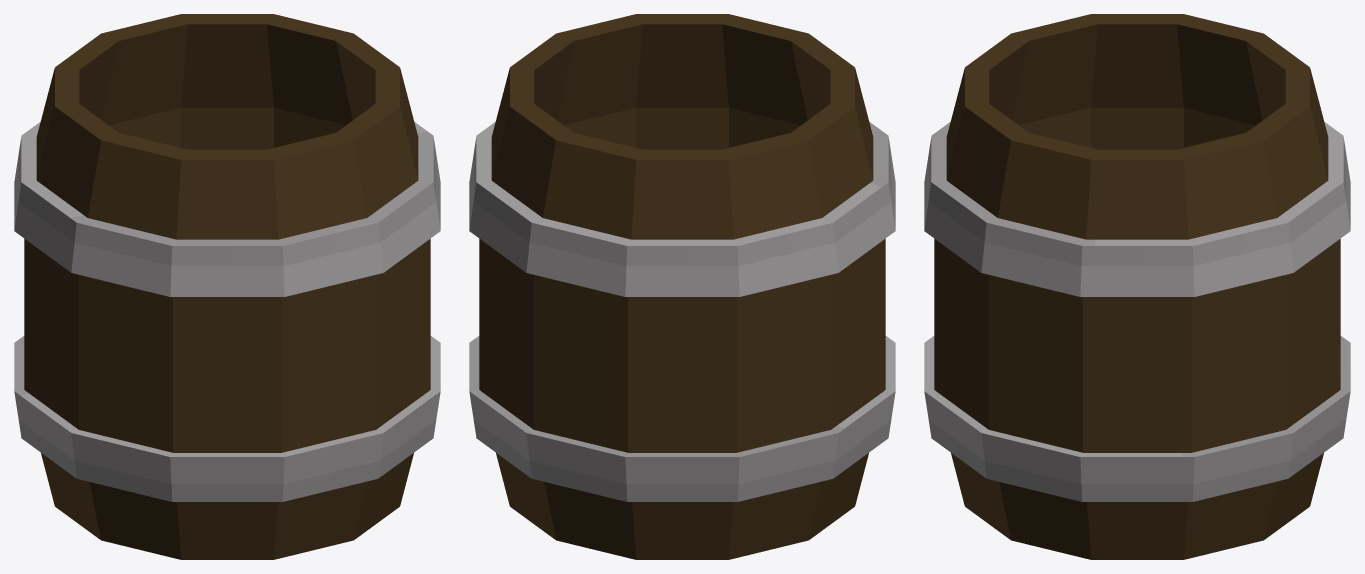
File: barrel_open.obj
The picture shows the model from 3 angles, left to right: view 1: azimuth 30°, elevation 25°; view 2: azimuth 150°, elevation 25°; view 3: azimuth 270°, elevation 25°; orthographic projection.
Visible parts, largest first — view 1: Barril_Abierto_object3.034; view 2: Barril_Abierto_object3.034; view 3: Barril_Abierto_object3.034.
Part boxes in pixels (x1=…): Barril_Abierto_object3.034: x1=14, y1=14, x2=440, y2=559; Barril_Abierto_object3.034: x1=469, y1=14, x2=895, y2=559; Barril_Abierto_object3.034: x1=924, y1=14, x2=1350, y2=559.
Size of the model in its own units: 25.13 by 26.01 by 25.13.
1 material, 1 textured.
